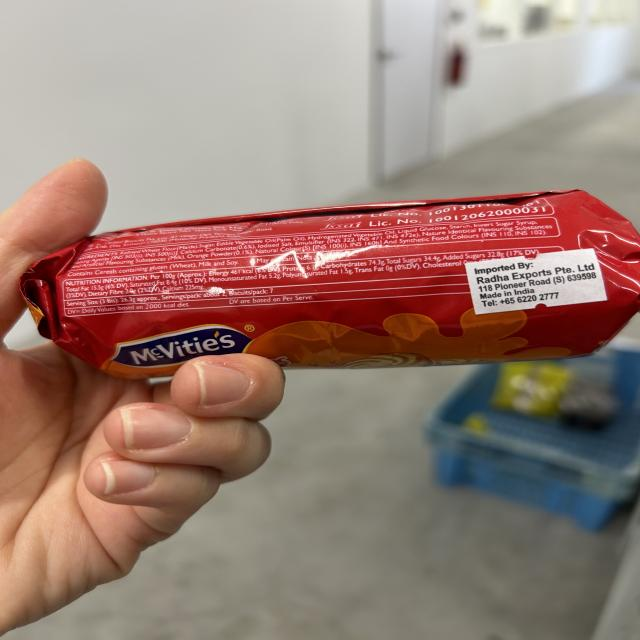object_name: (49, 229, 612, 360)
